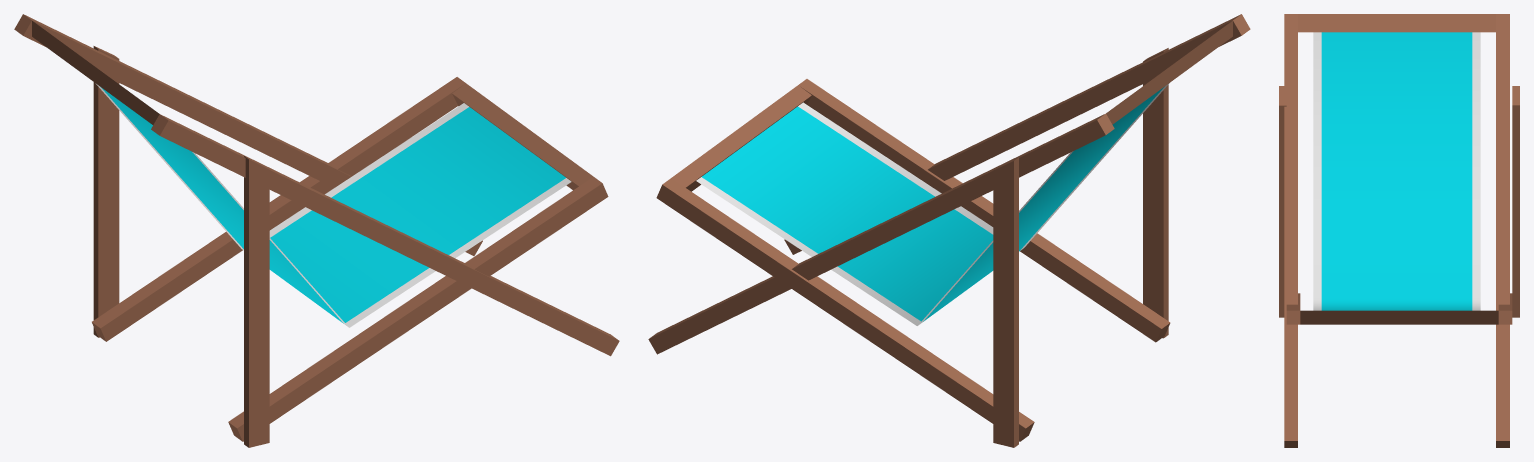
The model's file is Prop_DeckChair_Mod_01.fbx.
3 renders of one model, left to right at view 1: azimuth 30°, elevation 25°; view 2: azimuth 150°, elevation 25°; view 3: azimuth 270°, elevation 25°, orthographic. The views are drawn at different scales.
Parts seen in each view (by area): view 1: DeckChair; view 2: DeckChair; view 3: DeckChair.
Boxes of the visible parts, x1=… form: DeckChair: x1=14, y1=14, x2=619, y2=447; DeckChair: x1=648, y1=14, x2=1250, y2=447; DeckChair: x1=1279, y1=14, x2=1519, y2=447.
Bounding box in the file's own units: 1.44 × 1.03 × 0.8421.
